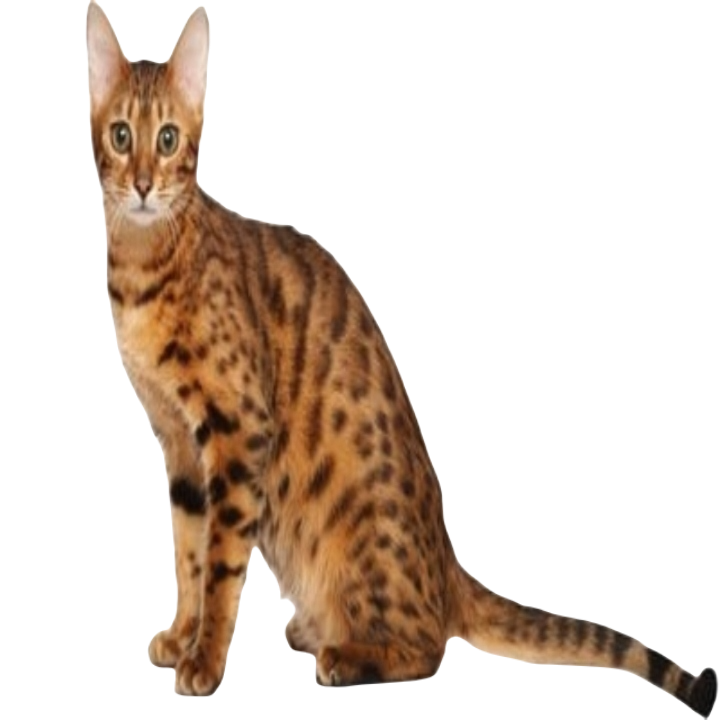Cat: (66, 6, 719, 719)
